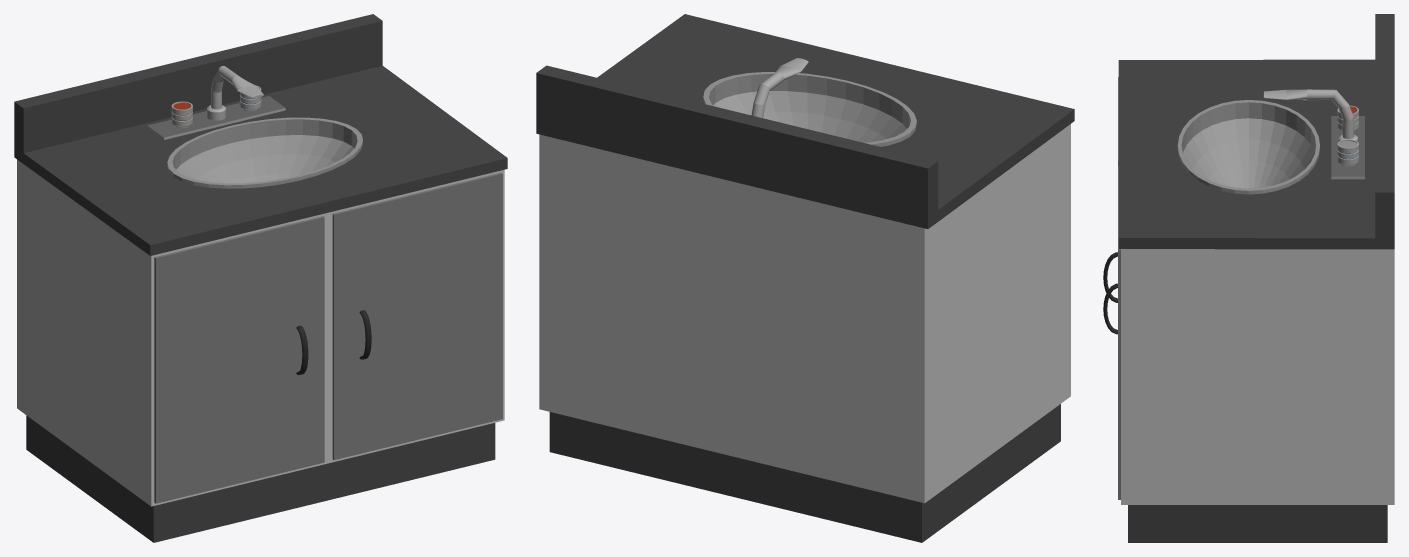
The model's file is Single Sink #1.fbx.
3 renders of one model, left to right at view 1: azimuth 30°, elevation 25°; view 2: azimuth 150°, elevation 25°; view 3: azimuth 270°, elevation 25°, orthographic. The views are drawn at different scales.
Parts seen in each view (by area): view 1: Single Sink #1; view 2: Single Sink #1; view 3: Single Sink #1.
Boxes of the visible parts, x1,y1,x2,y2 form: Single Sink #1: [14, 14, 507, 542]; Single Sink #1: [536, 14, 1074, 542]; Single Sink #1: [1103, 14, 1394, 542].
Bounding box in the file's own units: 118 × 113 × 81.17.
1 material, 1 textured.
